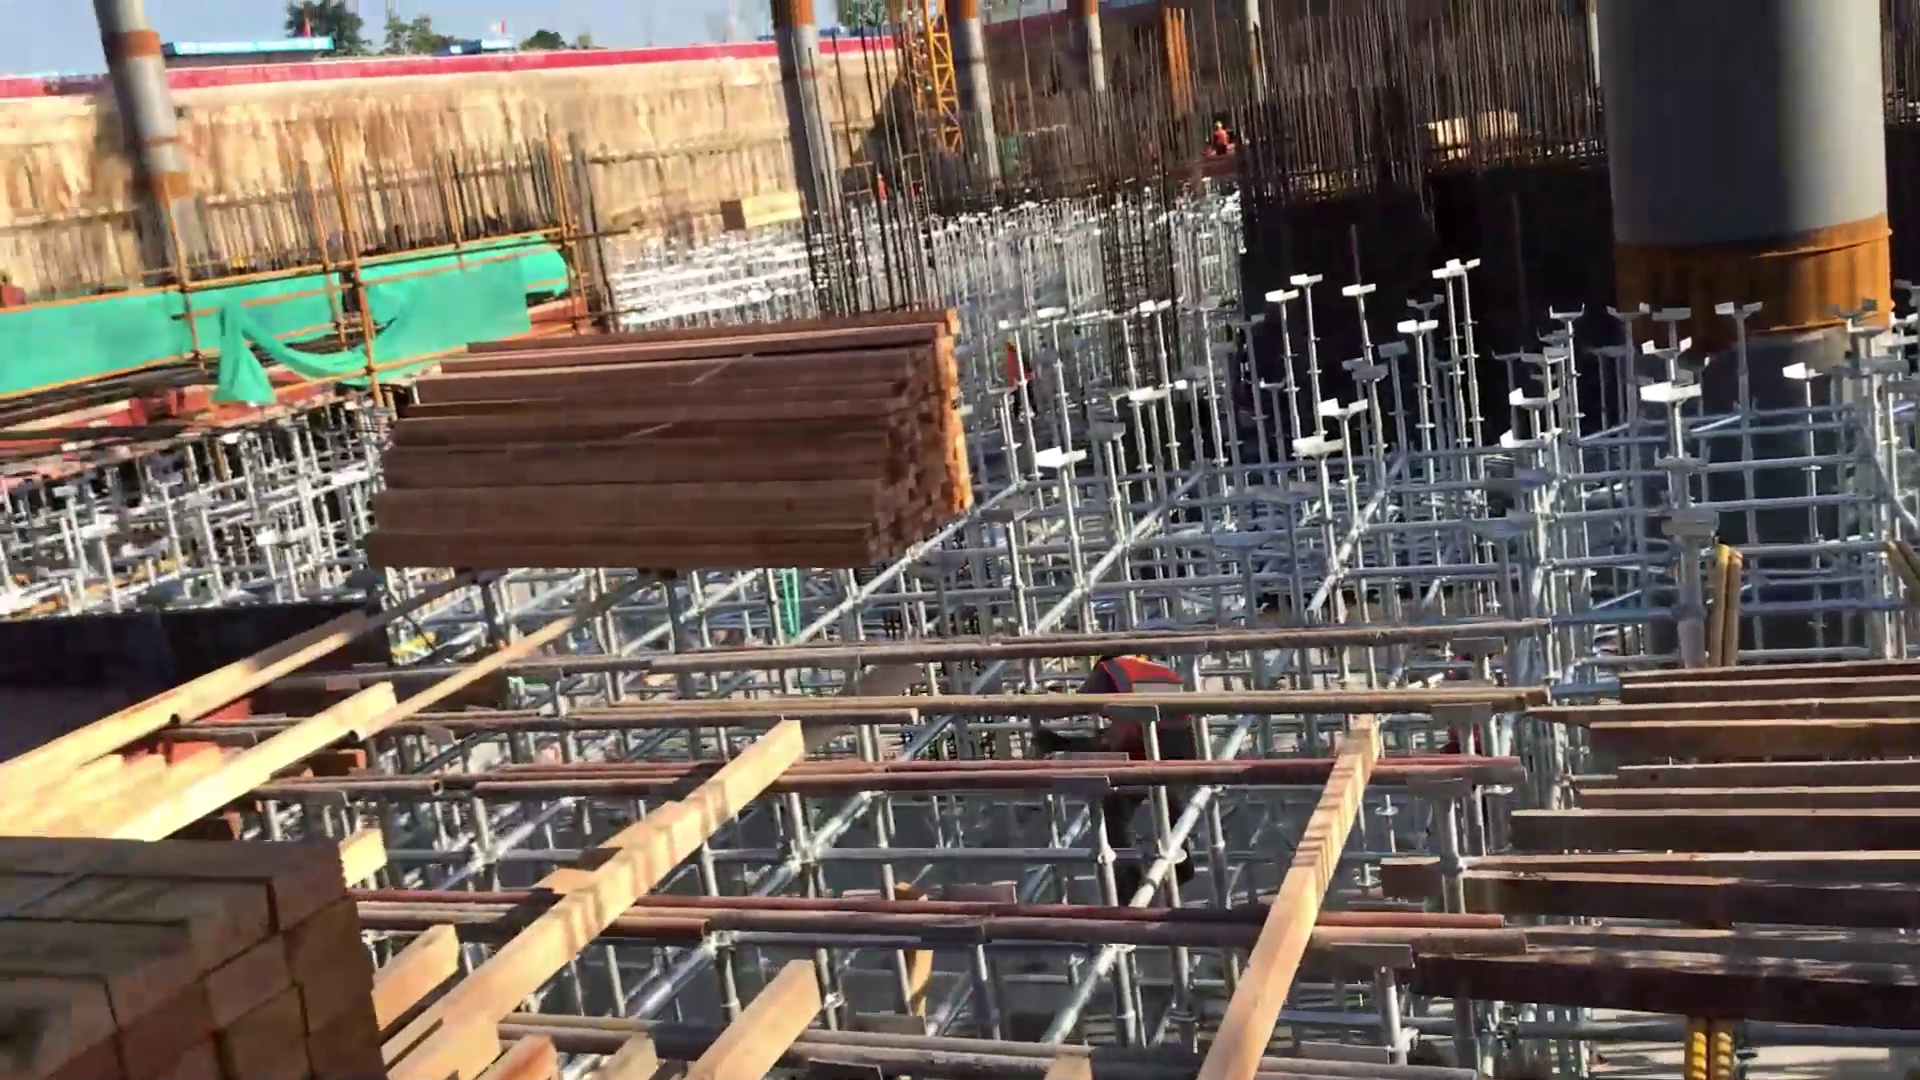vest: (1073, 650, 1197, 752)
wood: (336, 326, 1055, 611)
